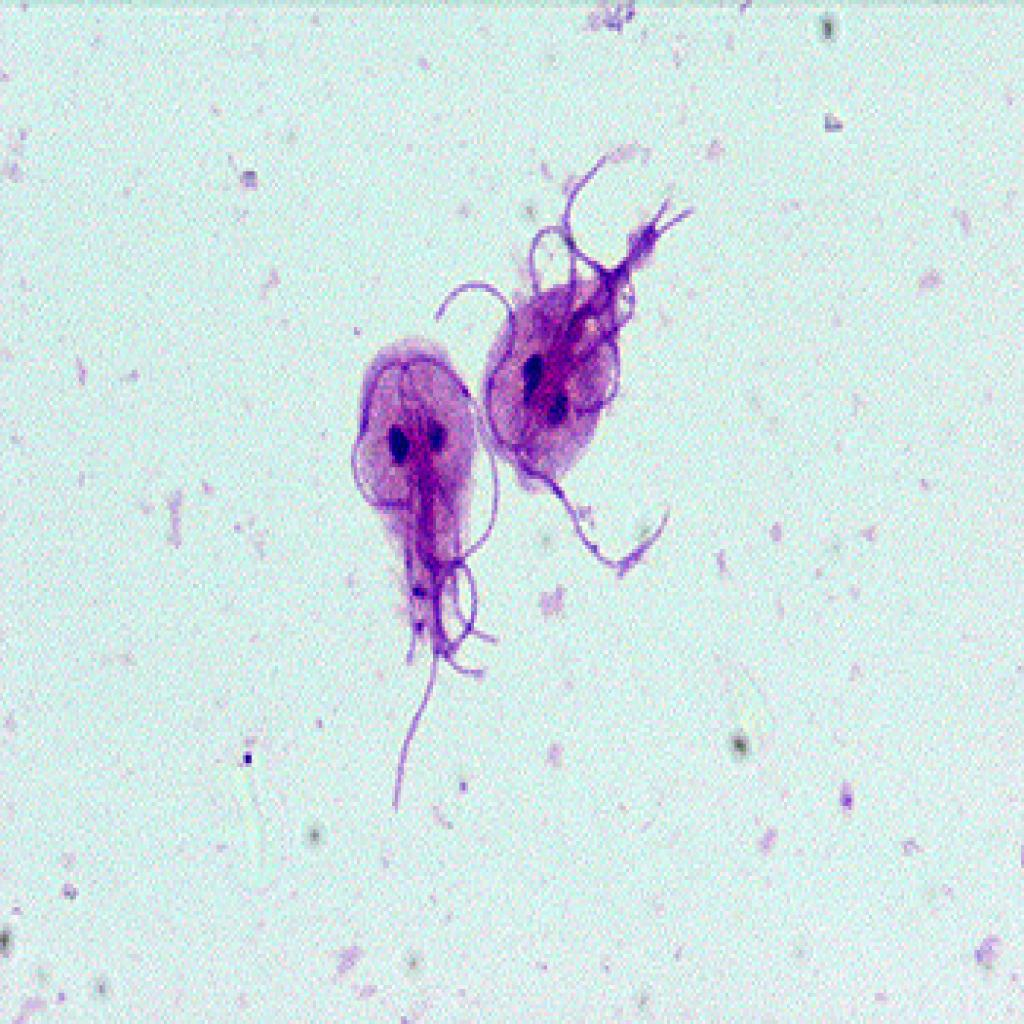Giardia: (480, 168, 673, 564), (342, 331, 509, 732)
